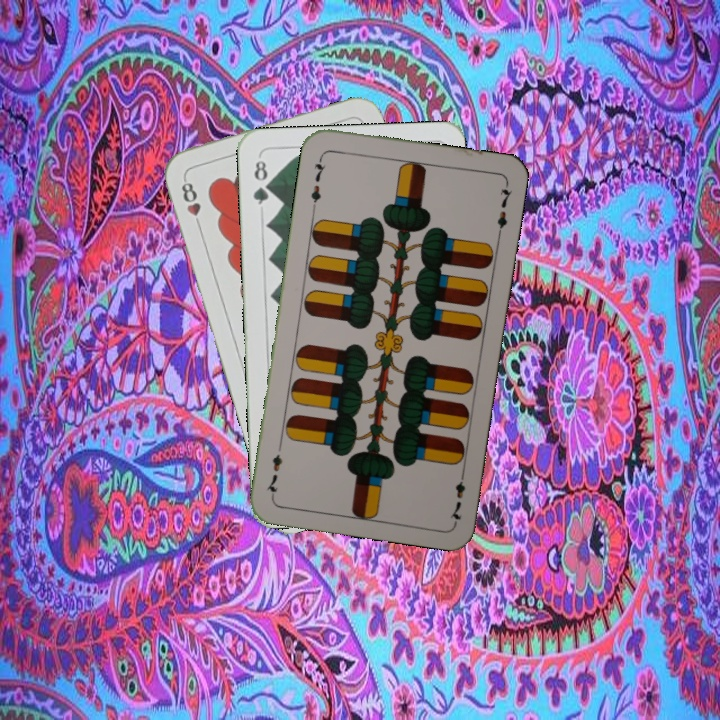E7: (446, 466, 469, 525), (306, 152, 328, 211)
G8: (249, 156, 273, 207)
H8: (177, 175, 205, 232)
